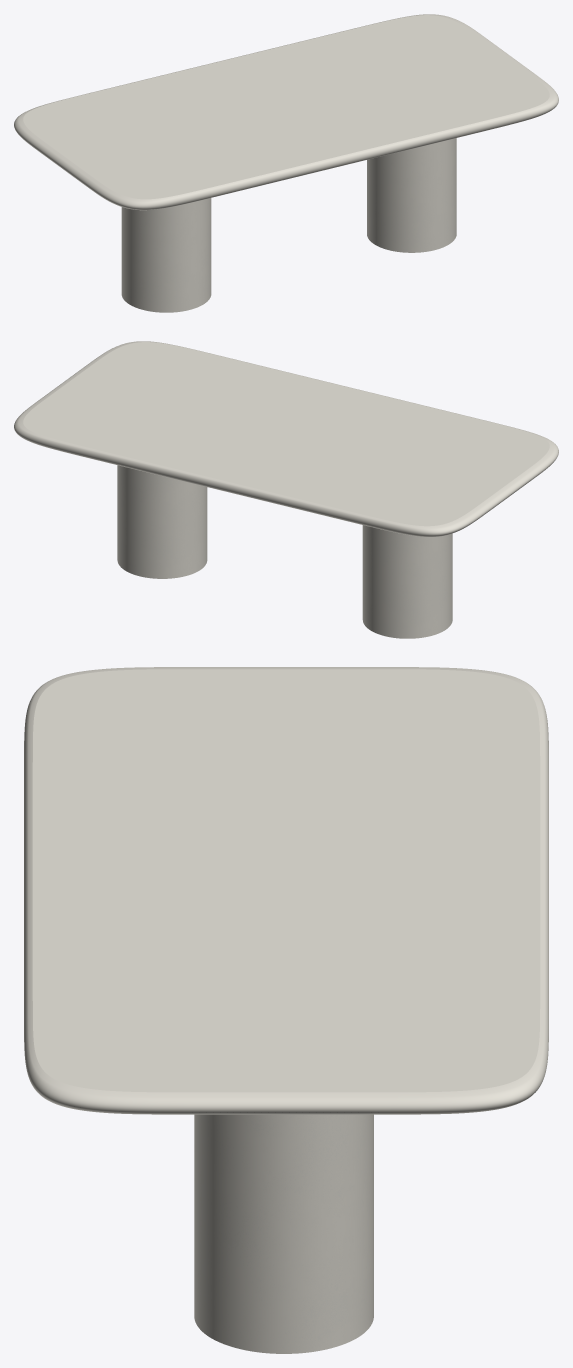
Rendered from pale_softrecta_round_stream.glb.
3 renders of one model, top to bottom at view 1: azimuth 30°, elevation 25°; view 2: azimuth 150°, elevation 25°; view 3: azimuth 270°, elevation 25°, orthographic. The views are drawn at different scales.
Visible parts, largest first — view 1: round_softrecta, stream; view 2: round_softrecta, stream; view 3: round_softrecta, stream.
Part boxes in pixels (left/top/right/bottom): round_softrecta: left=14, top=14, right=558, bottom=210; stream: left=121, top=138, right=456, bottom=312; round_softrecta: left=14, top=341, right=558, bottom=536; stream: left=117, top=465, right=452, bottom=638; round_softrecta: left=24, top=667, right=548, bottom=1114; stream: left=194, top=1114, right=373, bottom=1353.
Size of the model in its own units: 7.5 by 2.5 by 3.8.
1 material, 1 textured.
